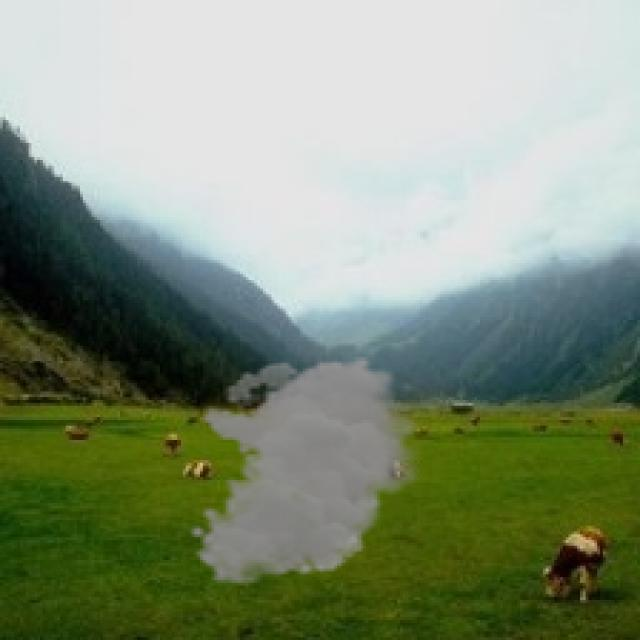Smoke: (188, 354, 428, 586)
